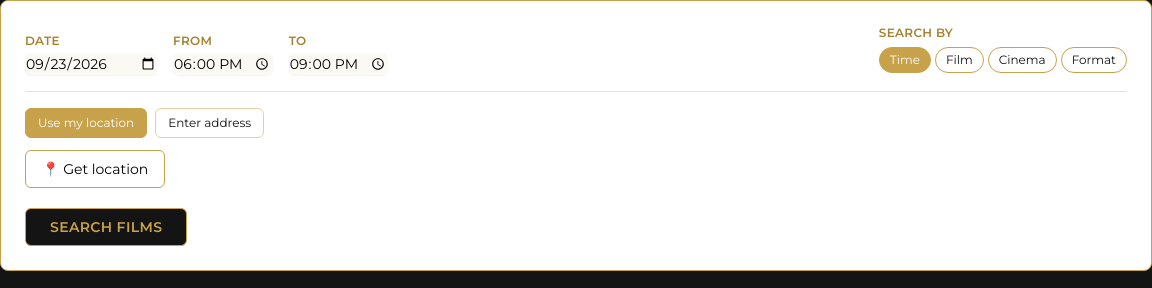
mode switching › switches to Format mode and shows format select
The width and height of the screenshot is (1152, 288).
Click the button "Format": (1094, 60) [1061, 47, 1127, 73]
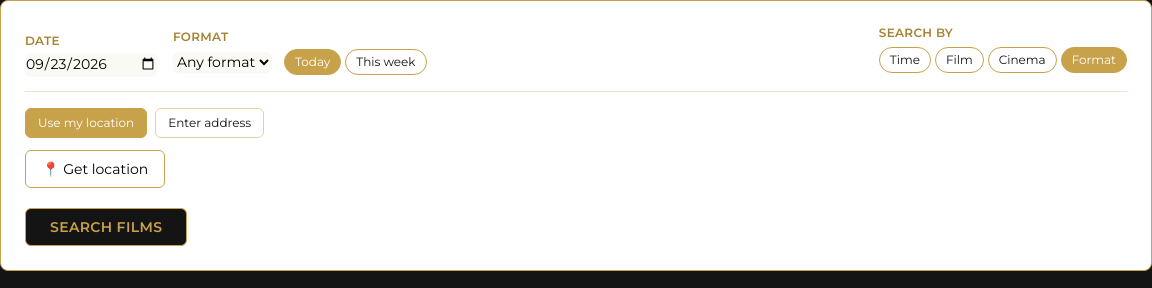
expect the dropdown labelled "Format" is shown: met, box [173, 52, 272, 72]
expect the label labelled "From" is gone: met
